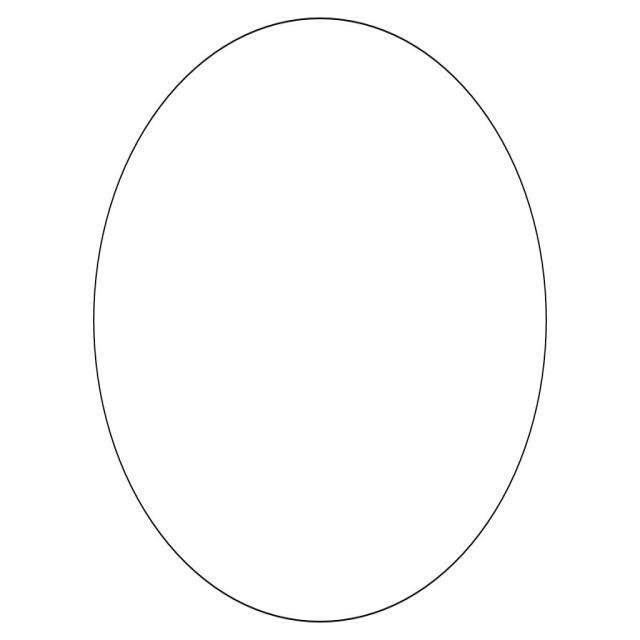Circle: (84, 16, 550, 628)
